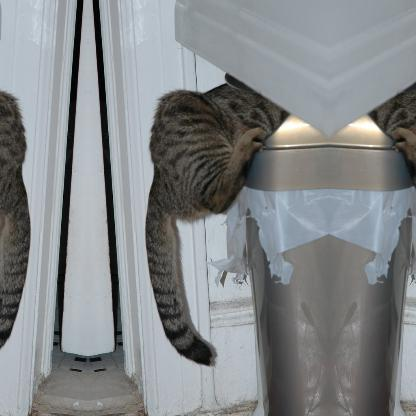Cat: (143, 78, 290, 368), (366, 77, 415, 369), (0, 77, 32, 369)
